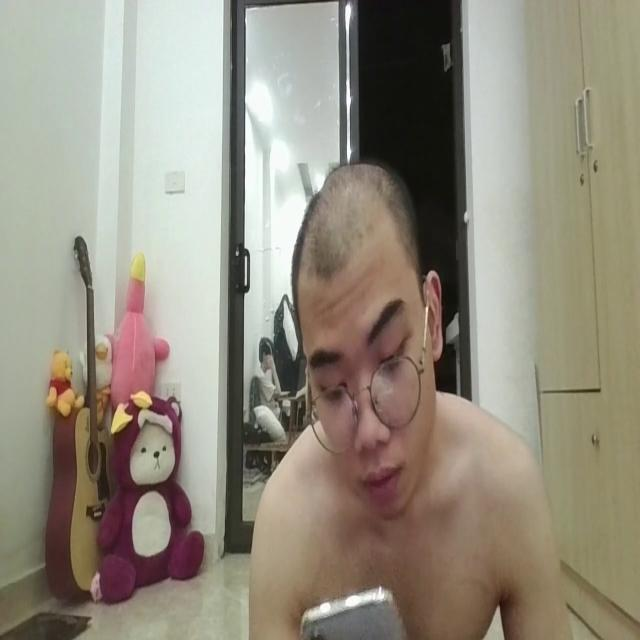student: (240, 148, 578, 640)
